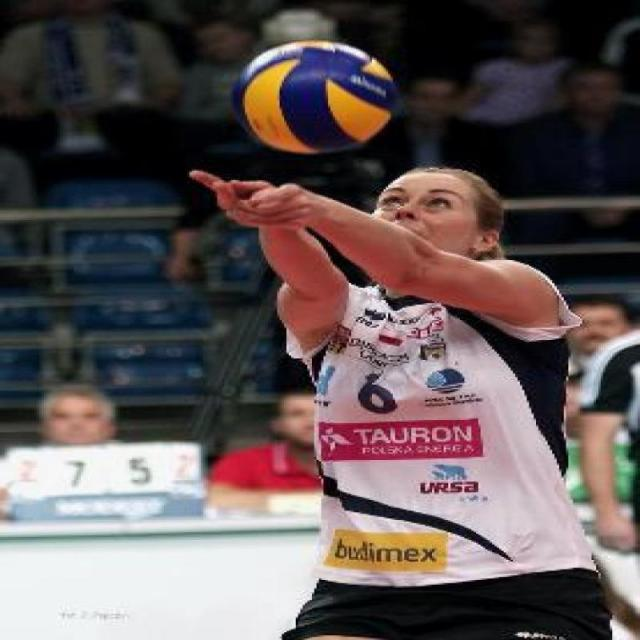volleyball: (231, 34, 404, 151)
